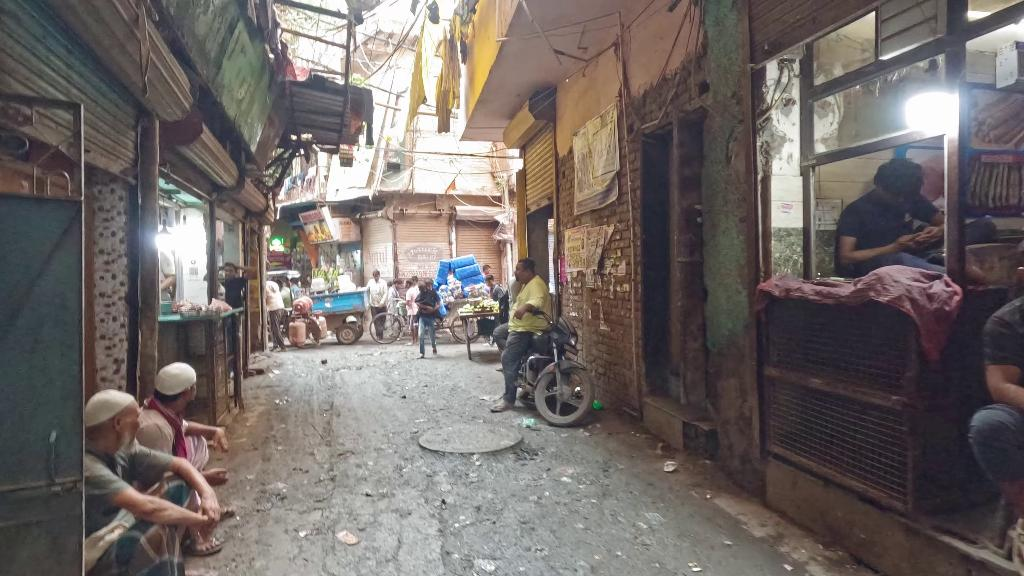garbage: (331, 525, 369, 555), (520, 412, 541, 435), (663, 457, 685, 478)
